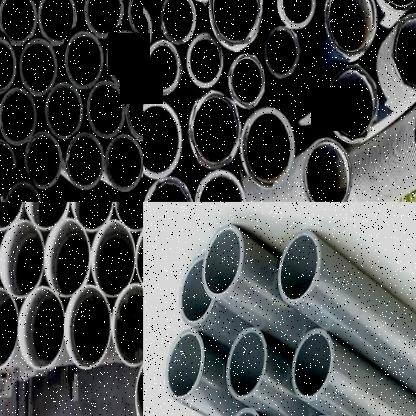pipe: (241, 107, 295, 188), (188, 92, 241, 169), (64, 285, 112, 369), (17, 287, 65, 369), (328, 64, 378, 140), (44, 218, 90, 296), (0, 219, 45, 298), (91, 220, 136, 297), (302, 138, 353, 202), (278, 231, 321, 305), (292, 328, 334, 402), (202, 226, 244, 300), (143, 100, 182, 178), (227, 328, 267, 402), (165, 329, 205, 402), (324, 0, 376, 56), (209, 0, 264, 51), (179, 255, 215, 326), (112, 283, 143, 365), (64, 31, 104, 90), (24, 131, 63, 189), (87, 80, 125, 139), (45, 82, 84, 139), (105, 134, 143, 192), (66, 132, 104, 190), (0, 87, 37, 145), (20, 38, 57, 96), (107, 30, 143, 88), (228, 54, 265, 109), (390, 11, 416, 89), (145, 40, 181, 96), (187, 33, 223, 89), (264, 27, 300, 79), (38, 0, 76, 47), (0, 0, 38, 46), (194, 170, 248, 202), (160, 0, 196, 44), (84, 0, 124, 39), (0, 288, 17, 372), (143, 177, 194, 202), (70, 202, 113, 231), (23, 202, 69, 229), (125, 83, 143, 141), (279, 0, 315, 28), (0, 36, 16, 96), (0, 139, 16, 197), (3, 182, 42, 202), (115, 202, 143, 229), (0, 201, 23, 229), (128, 0, 143, 41), (143, 3, 151, 57), (373, 0, 416, 10), (180, 0, 218, 4)
